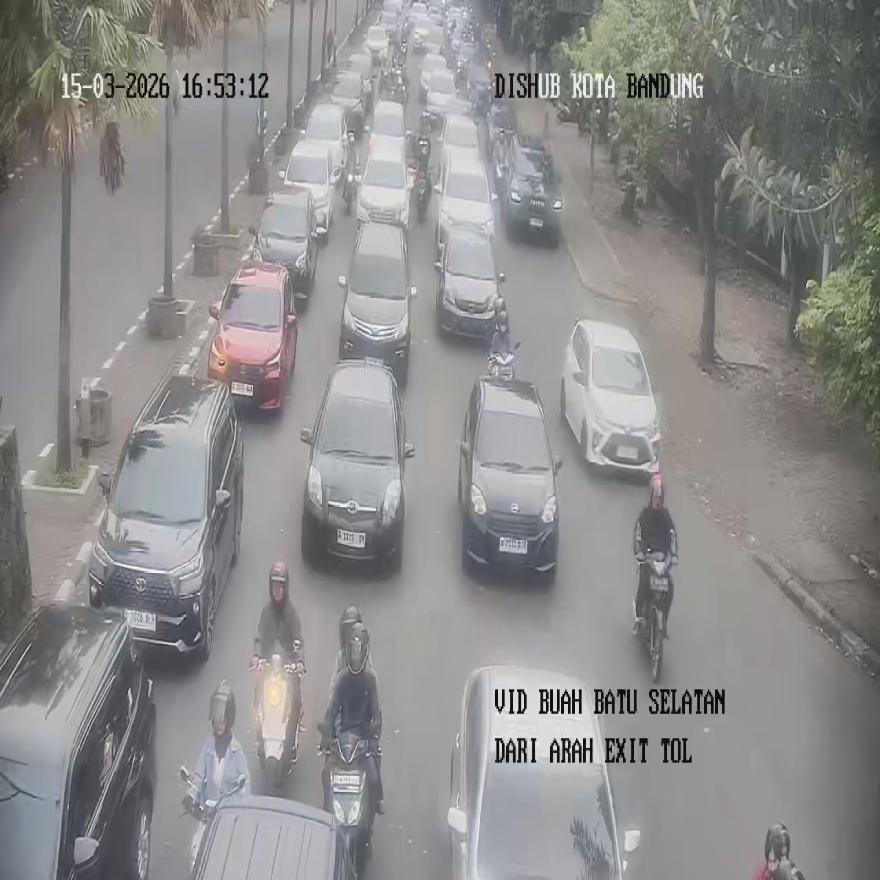Motor: (88, 370, 243, 660), (0, 602, 157, 878), (446, 666, 640, 879), (300, 358, 414, 565), (458, 376, 562, 574), (561, 317, 660, 474), (189, 794, 358, 880), (207, 256, 297, 410), (339, 219, 418, 385), (435, 221, 505, 339), (250, 184, 319, 300), (436, 146, 497, 260), (280, 139, 335, 242)
Truk: (321, 730, 380, 878), (178, 764, 248, 876), (254, 652, 303, 794), (634, 550, 674, 681), (342, 131, 358, 211), (414, 160, 432, 221)
